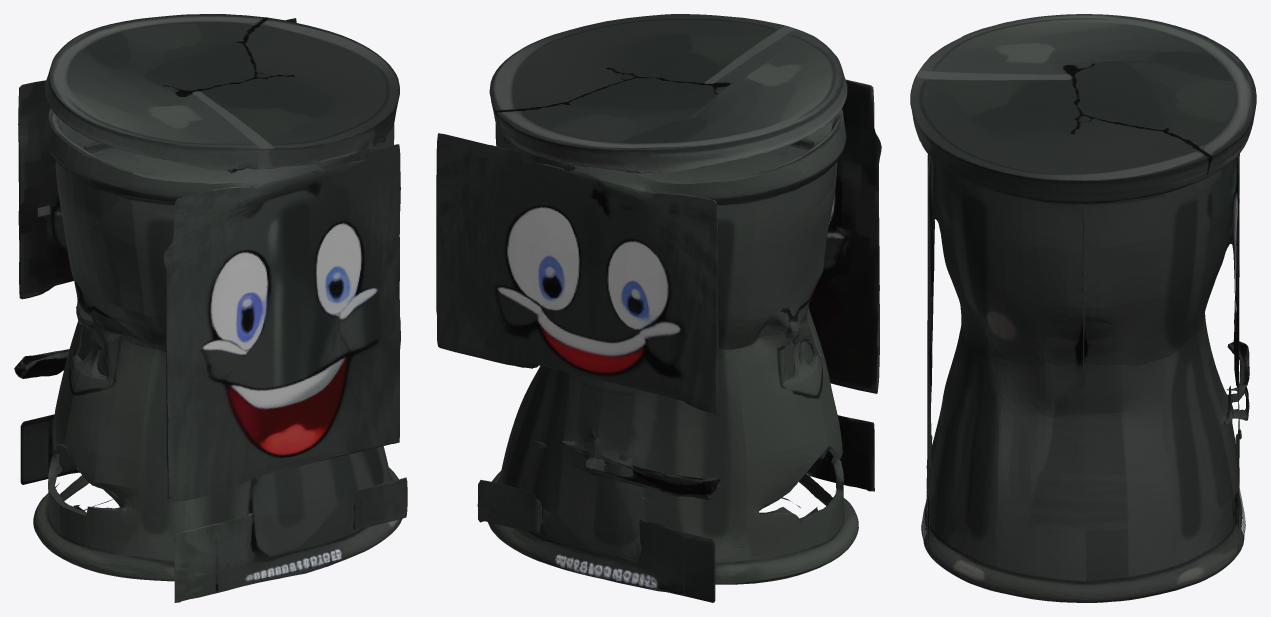
File: Copilot3D-3267fa86-d38d-40ab-9ef6-1a0b44abca0a.glb
3 views of the same model, side by side, from view 1: azimuth 30°, elevation 25°; view 2: azimuth 150°, elevation 25°; view 3: azimuth 270°, elevation 25° (orthographic).
Visible parts, largest first — view 1: world; view 2: world; view 3: world.
Part boxes in pixels (x1,y1,x2,y2): world: (14, 14, 407, 602); world: (436, 14, 881, 602); world: (910, 14, 1256, 602).
Bounding box in the file's own units: 0.8048 × 0.9917 × 0.7055.
Materials: 1 (1 with a texture image).
